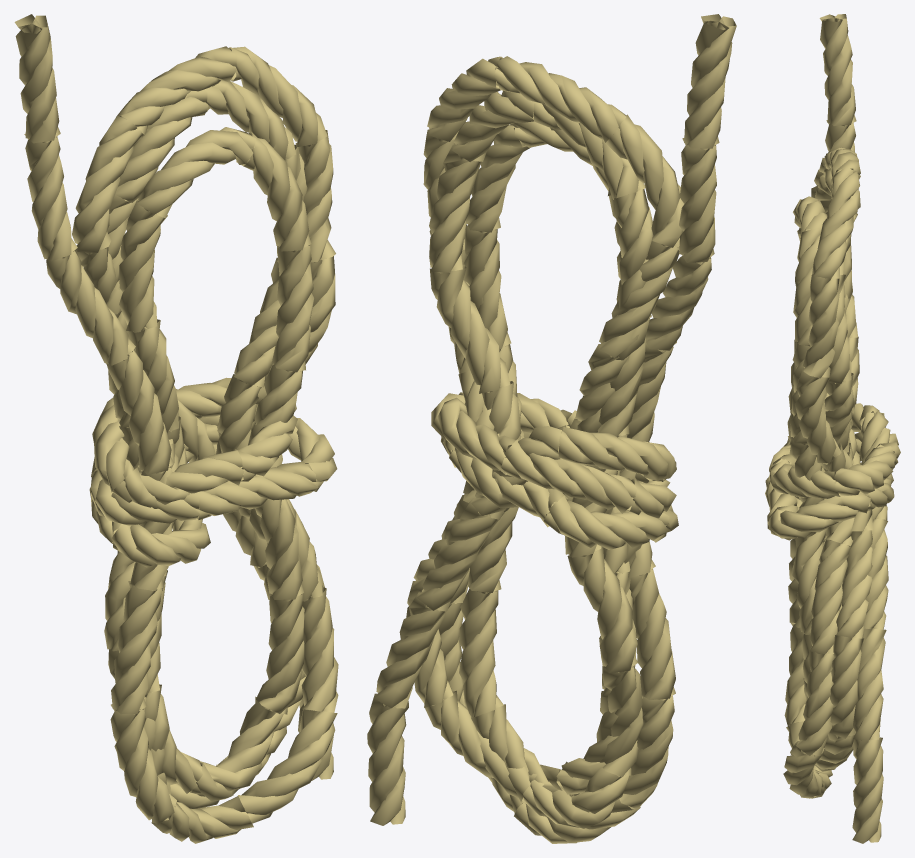
Rendered from s_cuerda.glb.
3 views of the same model, side by side, from view 1: azimuth 30°, elevation 25°; view 2: azimuth 150°, elevation 25°; view 3: azimuth 270°, elevation 25° (orthographic). The views are drawn at different scales.
Visible parts, largest first — view 1: Object_3; view 2: Object_3; view 3: Object_3.
Boxes of the visible parts, bbox=[...] form: Object_3: bbox=[14, 14, 338, 843]; Object_3: bbox=[367, 14, 736, 843]; Object_3: bbox=[765, 14, 900, 843].
Size of the model in its own units: 0.1644 by 0.4 by 0.0696.
